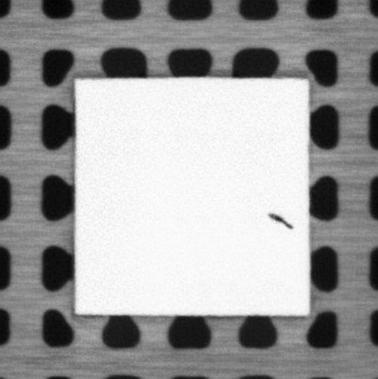DIE_INK: (267, 211, 294, 230)
